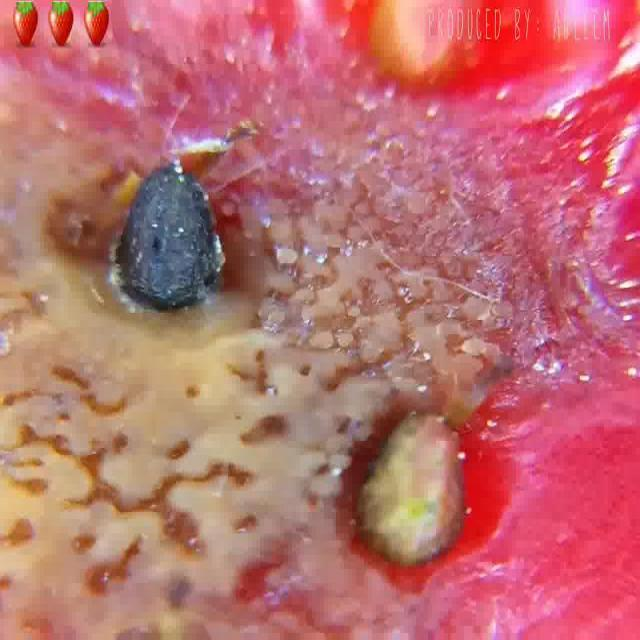Mancha negra Antracnosis: (19, 72, 601, 622)
